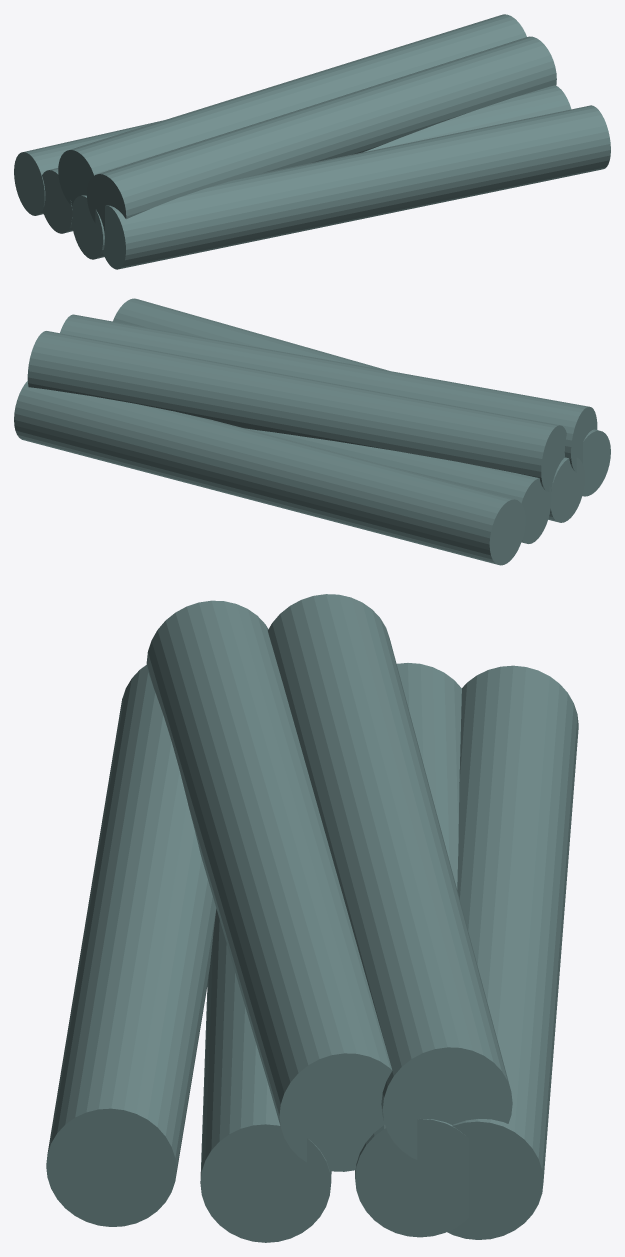
The model's file is Iron.fbx.
The picture shows the model from 3 angles, top to bottom: view 1: azimuth 30°, elevation 25°; view 2: azimuth 150°, elevation 25°; view 3: azimuth 270°, elevation 25°; orthographic projection. The views are drawn at different scales.
Visible parts, largest first — view 1: Cylinder.004; view 2: Cylinder.004; view 3: Cylinder.004.
Boxes of the visible parts, box(x1,y1,x2,y2) form: Cylinder.004: box(14, 14, 610, 269); Cylinder.004: box(14, 298, 610, 565); Cylinder.004: box(46, 594, 578, 1242).
Bounding box in the file's own units: 1663 × 328 × 815.
